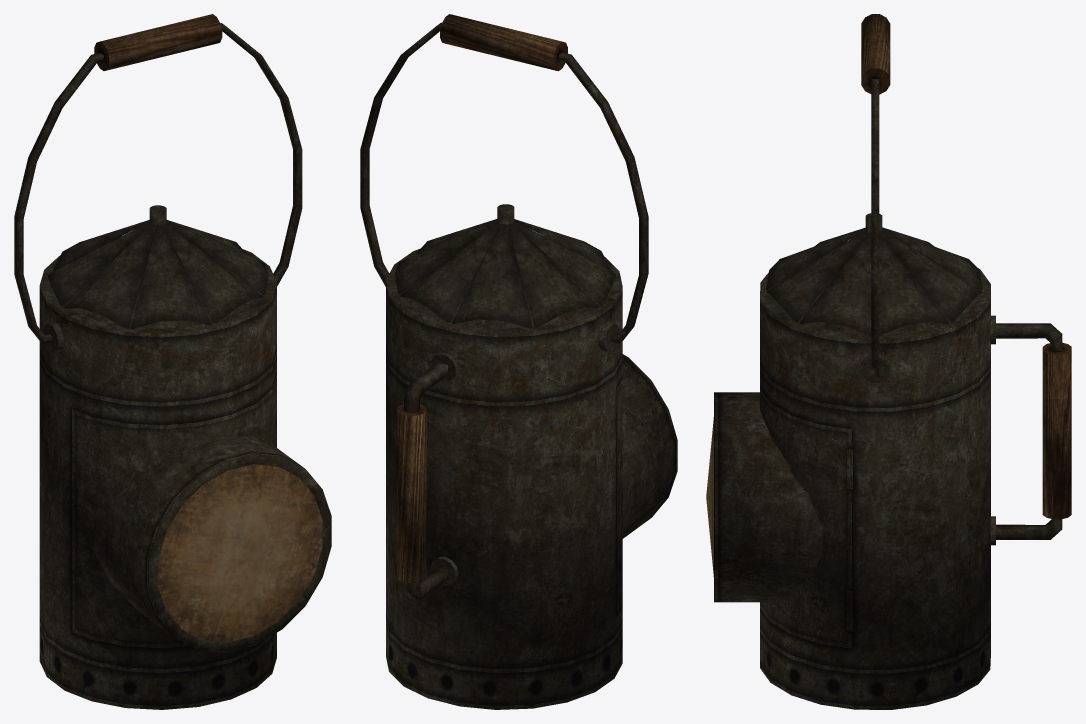
Rendered from bullseye_lantern.dae.
The picture shows the model from 3 angles, left to right: view 1: azimuth 30°, elevation 25°; view 2: azimuth 150°, elevation 25°; view 3: azimuth 270°, elevation 25°; orthographic projection.
Parts seen in each view (by area): view 1: Lantern, Handle_Wood; view 2: Lantern, Handle_Wood; view 3: Lantern, Handle_Wood.
Boxes of the visible parts, x1,y1,x2,y2 form: Lantern: [14, 23, 331, 709]; Handle_Wood: [94, 14, 222, 70]; Lantern: [360, 22, 677, 709]; Handle_Wood: [440, 14, 567, 71]; Lantern: [706, 79, 1071, 709]; Handle_Wood: [861, 14, 890, 94].
Size of the model in its own units: 0.2766 by 0.3133 by 0.5863.
Materials: 1 (1 with a texture image).
